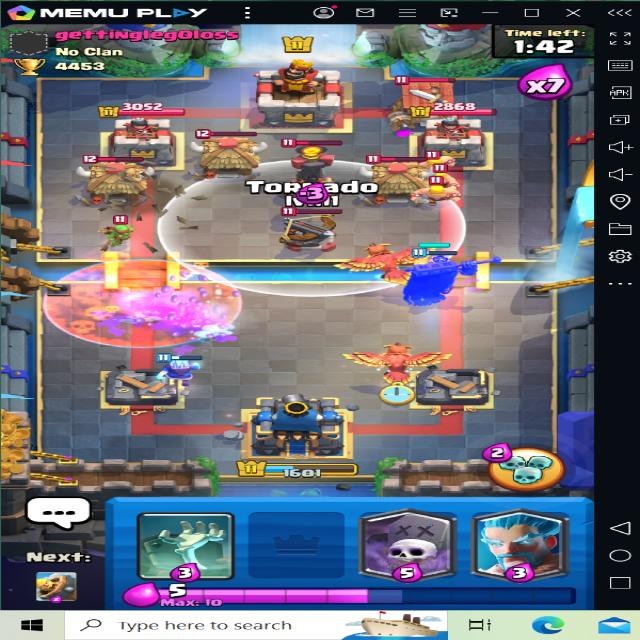barbarian: (418, 179, 464, 203), (418, 147, 457, 170), (427, 166, 465, 186)
barbarian-hut: (386, 73, 464, 124)
goblin-hut: (187, 126, 266, 178), (363, 152, 434, 204), (80, 155, 156, 201)
inferno-tower: (278, 136, 342, 201)
spear-goblin: (99, 213, 133, 236)
x-bow: (269, 200, 348, 251)
